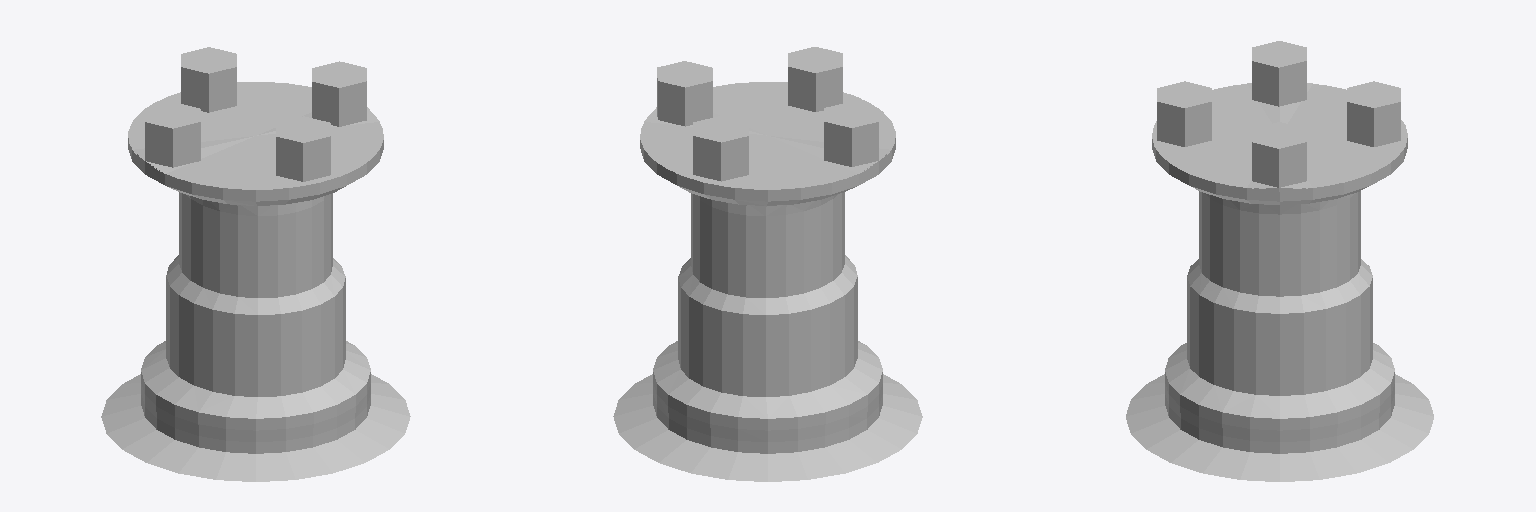
File: rook.obj
3 renders of one model, left to right at view 1: azimuth 30°, elevation 25°; view 2: azimuth 150°, elevation 25°; view 3: azimuth 270°, elevation 25°, orthographic.
Bounding box in the file's own units: 3.99 × 4.58 × 3.98.